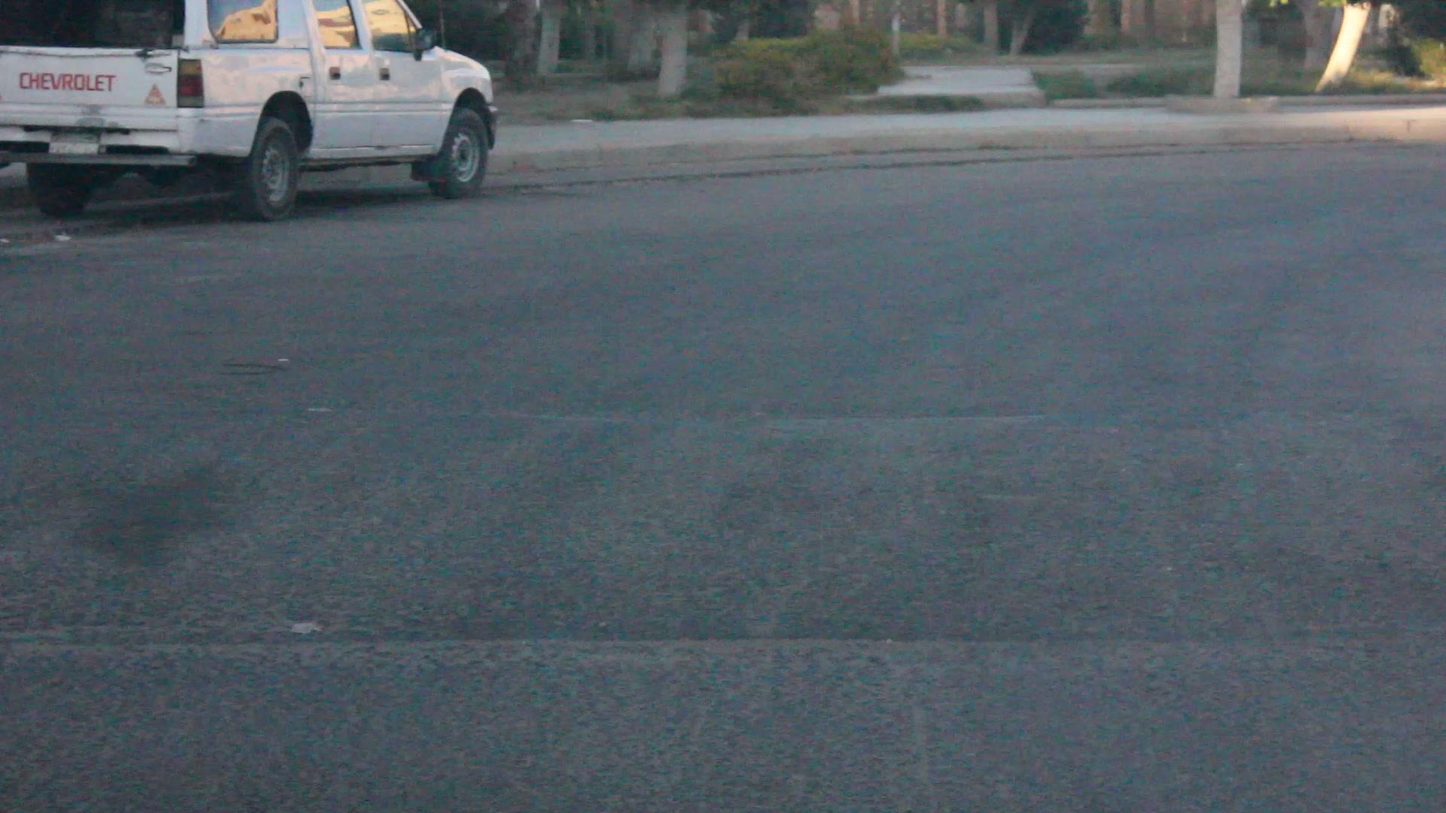Bump: (0, 384, 1446, 642)
